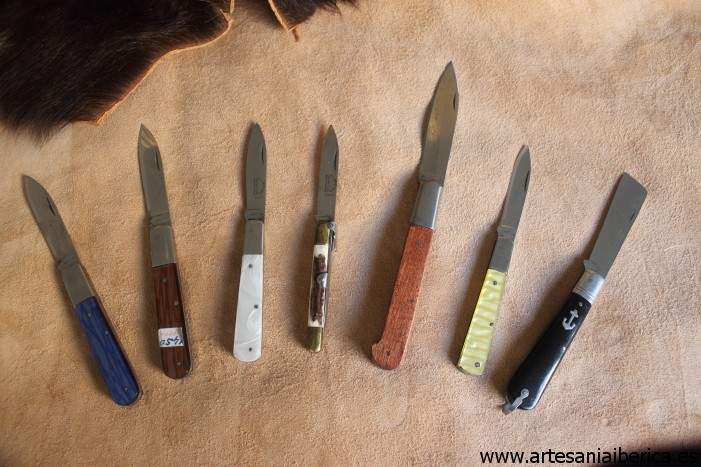knife: (18, 165, 102, 313), (402, 52, 465, 238), (135, 115, 188, 284), (487, 137, 537, 271), (233, 116, 274, 270), (305, 121, 343, 260)
